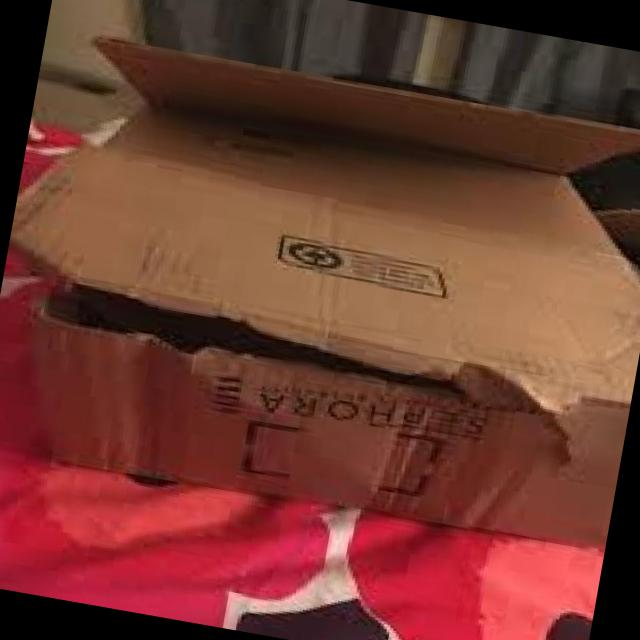box: (37, 35, 640, 544)
crushed: (500, 367, 590, 470)
opened: (41, 271, 480, 398)
